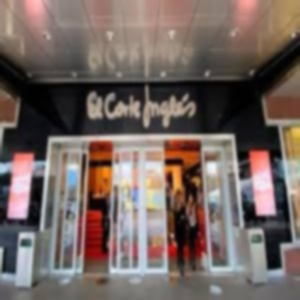corte_ingles: (156, 42, 242, 127)
